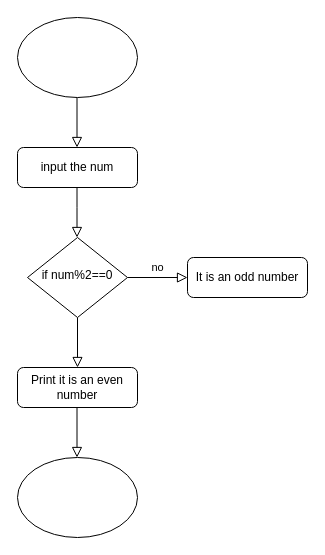
Image size: 325x555. Some labels were removed from this diagram. The centre of each missing label's shape, as x and y in pixels:
"start" belongs at [77,57].
"stop" belongs at [77,497].
